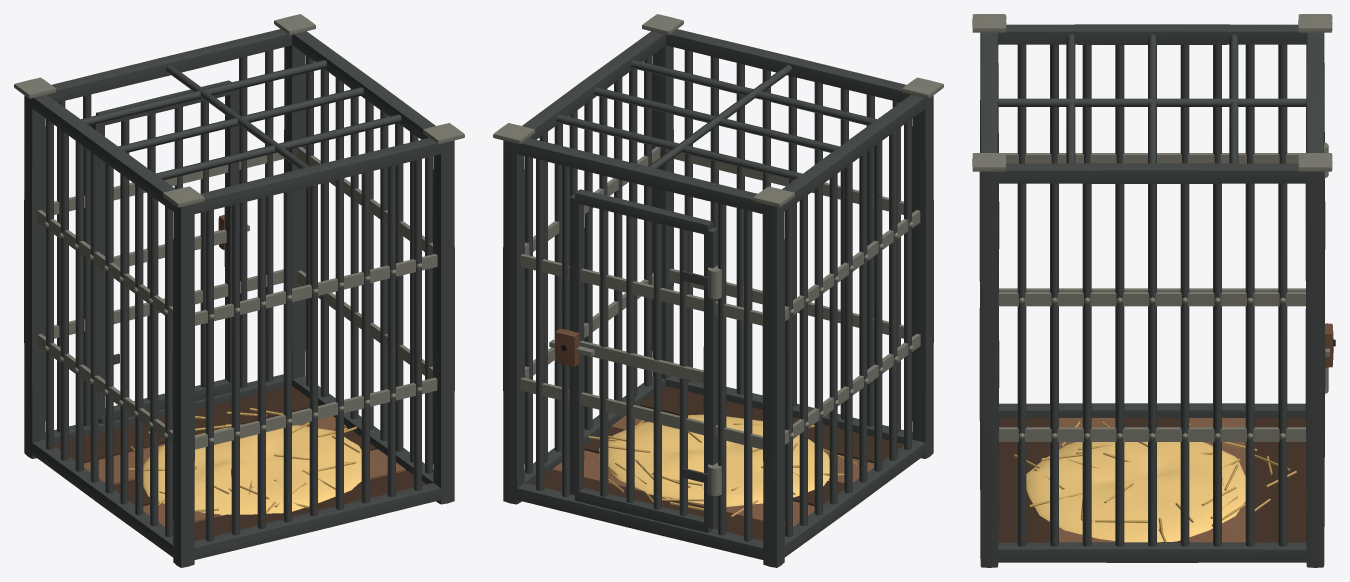
File: detail_prison_cage.glb
3 views of the same model, side by side, from view 1: azimuth 30°, elevation 25°; view 2: azimuth 150°, elevation 25°; view 3: azimuth 270°, elevation 25° (orthographic). The views are drawn at different scales.
Visible parts, largest first — view 1: metal, straw, wood; view 2: metal, straw, wood; view 3: metal, straw, wood.
Part boxes in pixels (<box>): metal: <box>14,14,464,567</box>; straw: <box>129,408,361,515</box>; wood: <box>54,386,426,540</box>; metal: <box>493,14,943,567</box>; straw: <box>588,411,856,517</box>; wood: <box>531,386,903,540</box>; metal: <box>972,14,1333,567</box>; straw: <box>1014,421,1296,542</box>; wood: <box>998,417,1306,542</box>.
Size of the model in its own units: 1.3 by 1.6 by 1.3.
